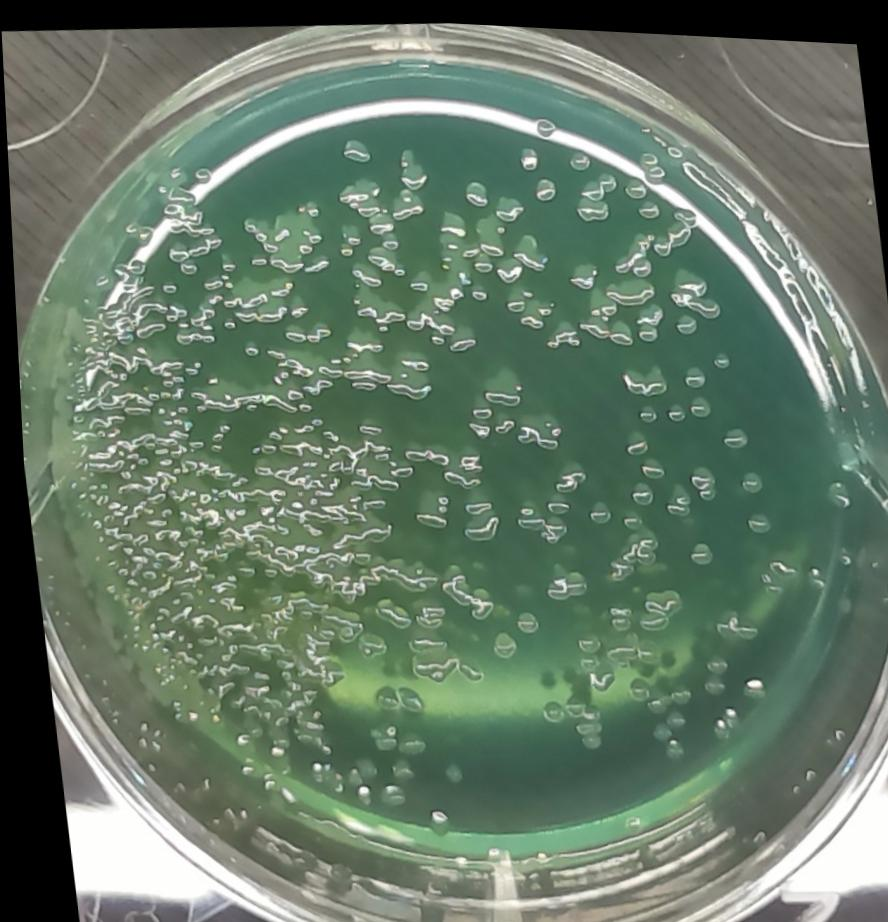paeruginosa: (591, 515, 660, 582), (509, 404, 560, 450), (533, 555, 584, 600), (475, 356, 522, 404), (404, 480, 449, 525), (393, 141, 433, 189), (540, 311, 584, 351), (336, 128, 377, 163), (715, 412, 749, 448), (532, 506, 566, 540), (677, 530, 713, 562), (503, 598, 538, 630), (482, 623, 511, 656)
